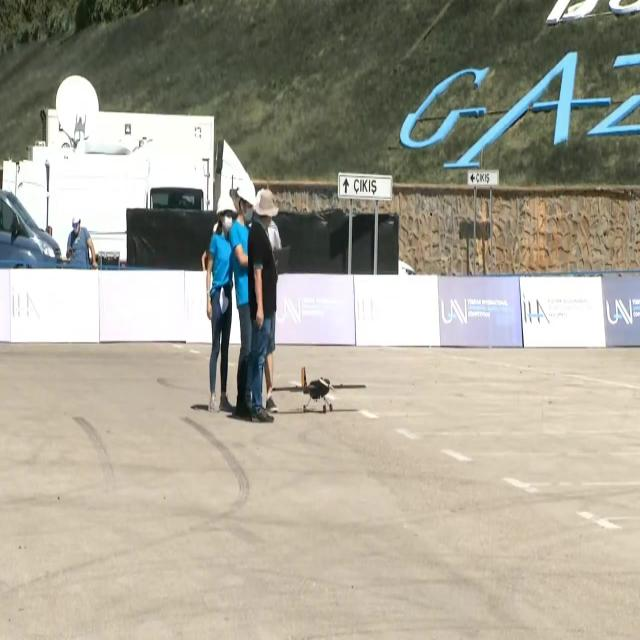iha: (303, 364, 336, 414)
